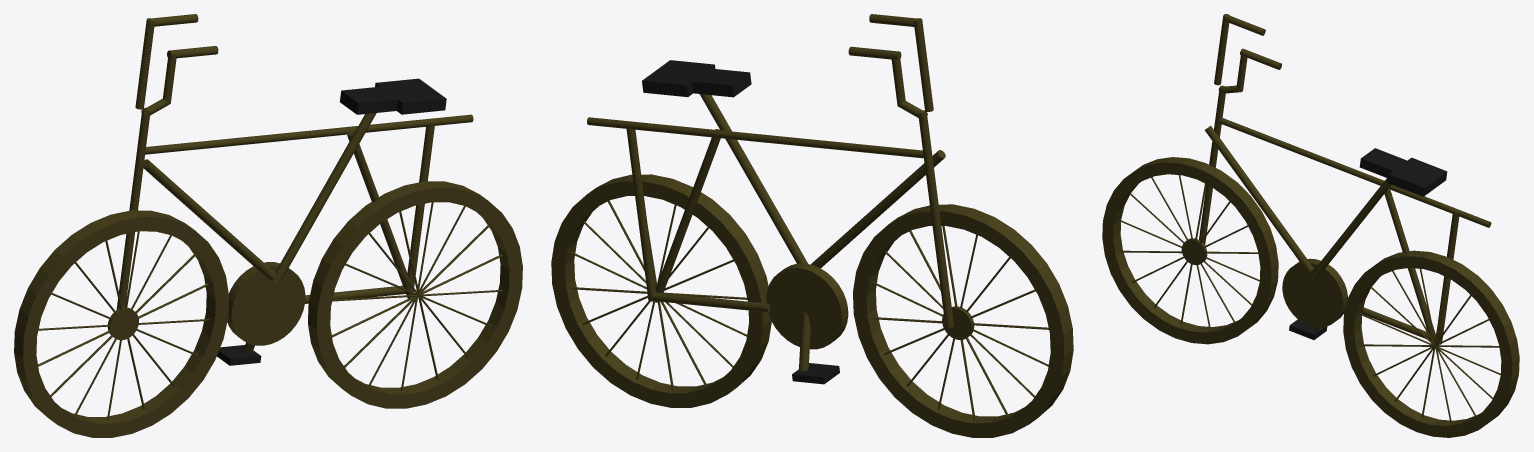
Rendered from bicycle.fbx.
3 views of the same model, side by side, from view 1: azimuth 30°, elevation 25°; view 2: azimuth 150°, elevation 25°; view 3: azimuth 330°, elevation 25° (orthographic). The views are drawn at different scales.
Parts seen in each view (by area): view 1: Cylinder.077, Cylinder.078, Cylinder.079, Cylinder.103, Cylinder.106, Cylinder.102, Cube.291, Cylinder.090, Cube.290, Cylinder.105, Cylinder.101, Cylinder.109 (+7 smaller); view 2: Cylinder.078, Cylinder.077, Cylinder.079, Cylinder.103, Cylinder.090, Cylinder.106, Cube.291, Cylinder.102, Cylinder.101, Cylinder.105, Cube.290, Cylinder.089 (+5 smaller); view 3: Cylinder.078, Cylinder.077, Cylinder.079, Cylinder.103, Cylinder.102, Cube.291, Cylinder.105, Cylinder.106, Cylinder.090, Cube.290, Cylinder.101, Cylinder.099 (+3 smaller).
Boxes of the visible parts, x1,y1,x2,y2 form: Cylinder.077: (308, 181, 522, 408); Cylinder.078: (14, 210, 228, 437); Cylinder.079: (227, 262, 305, 345); Cylinder.103: (144, 114, 473, 154); Cylinder.106: (271, 113, 376, 284); Cylinder.102: (141, 159, 275, 280); Cube.291: (375, 78, 446, 114); Cylinder.090: (116, 107, 149, 309); Cube.290: (340, 86, 397, 114); Cylinder.105: (346, 130, 414, 298); Cylinder.101: (407, 122, 434, 287); Cylinder.109: (135, 18, 154, 109); Cylinder.078: (853, 204, 1073, 437); Cylinder.077: (551, 174, 771, 407); Cylinder.079: (766, 263, 848, 349); Cylinder.103: (587, 117, 924, 158); Cylinder.090: (918, 110, 953, 327); Cylinder.106: (699, 94, 807, 263); Cube.291: (642, 60, 715, 97); Cylinder.102: (811, 150, 945, 268); Cylinder.101: (626, 125, 655, 301); Cylinder.105: (654, 129, 720, 302); Cube.290: (692, 68, 751, 97); Cylinder.089: (647, 292, 770, 312); Cylinder.078: (1102, 157, 1278, 344); Cylinder.077: (1343, 250, 1519, 437); Cylinder.079: (1282, 258, 1347, 327); Cylinder.103: (1218, 118, 1491, 227); Cylinder.102: (1204, 125, 1313, 272); Cube.291: (1387, 157, 1447, 196); Cylinder.105: (1384, 188, 1438, 343); Cylinder.106: (1310, 178, 1391, 279); Cylinder.090: (1199, 85, 1225, 245); Cube.290: (1359, 148, 1416, 179); Cylinder.101: (1437, 211, 1459, 344); Cylinder.099: (1181, 238, 1207, 265).
Bounding box in the file's own units: 2060 × 1739 × 294.
